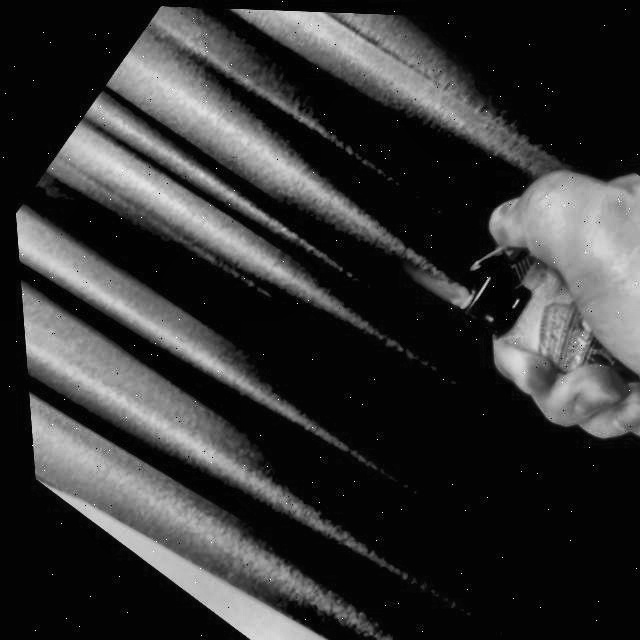Fire: (399, 249, 471, 312)
